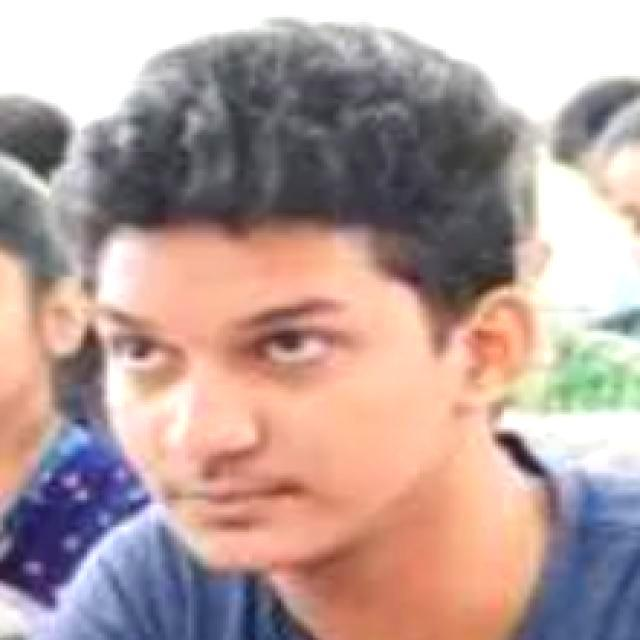Looking forward: (91, 218, 418, 572)
